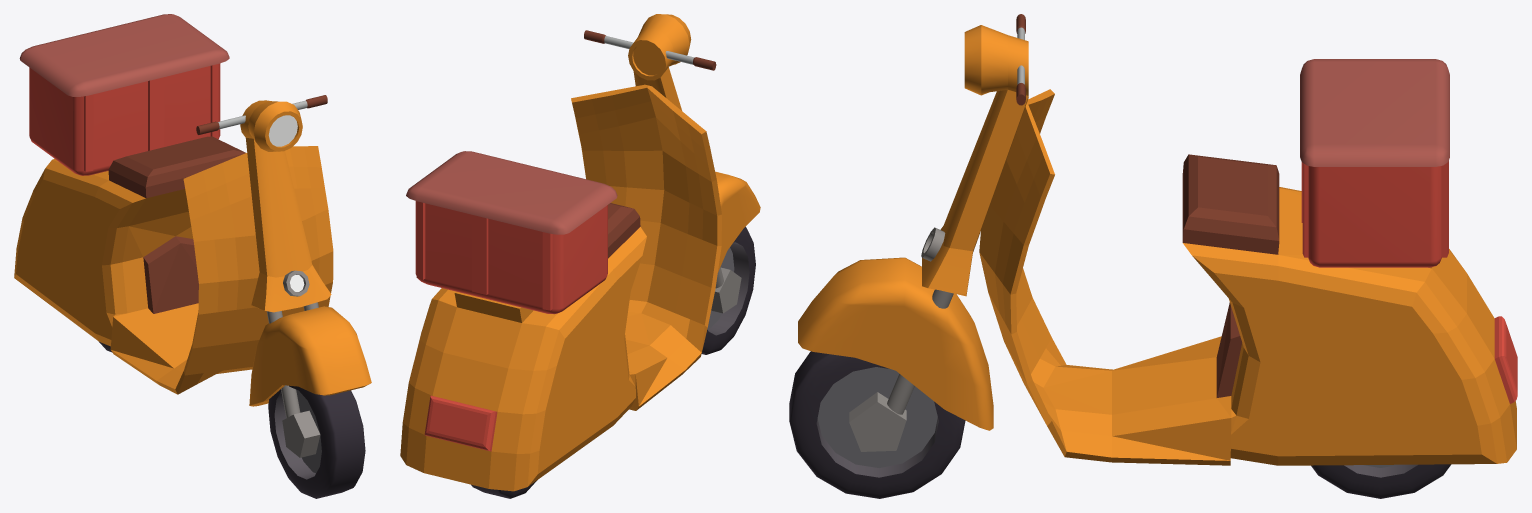
The model's file is vespa 2.fbx.
3 views of the same model, side by side, from view 1: azimuth 30°, elevation 25°; view 2: azimuth 150°, elevation 25°; view 3: azimuth 270°, elevation 25° (orthographic). The views are drawn at different scales.
Parts seen in each view (by area): view 1: vespa_body, motobike_front, box_body, box_upper, wheel; view 2: vespa_body, box_body, box_upper, motobike_front, wheel; view 3: vespa_body, motobike_front, wheel, box_upper, box_body, vespa_back_wheel.
Part boxes in pixels (x1,y1,x2,y2): vespa_body: [14, 136, 333, 394]; motobike_front: [196, 95, 371, 406]; box_body: [29, 63, 220, 175]; box_upper: [19, 14, 229, 96]; wheel: [268, 385, 365, 498]; vespa_body: [400, 84, 721, 491]; box_body: [415, 201, 607, 314]; box_upper: [406, 151, 617, 234]; motobike_front: [584, 14, 760, 271]; wheel: [701, 226, 755, 354]; vespa_body: [979, 89, 1517, 465]; motobike_front: [798, 14, 1028, 430]; wheel: [789, 351, 965, 498]; box_upper: [1300, 59, 1449, 166]; box_body: [1301, 160, 1448, 267]; vespa_back_wheel: [1311, 464, 1451, 498].
Bounding box in the file's own units: 341 × 726 × 1035.
